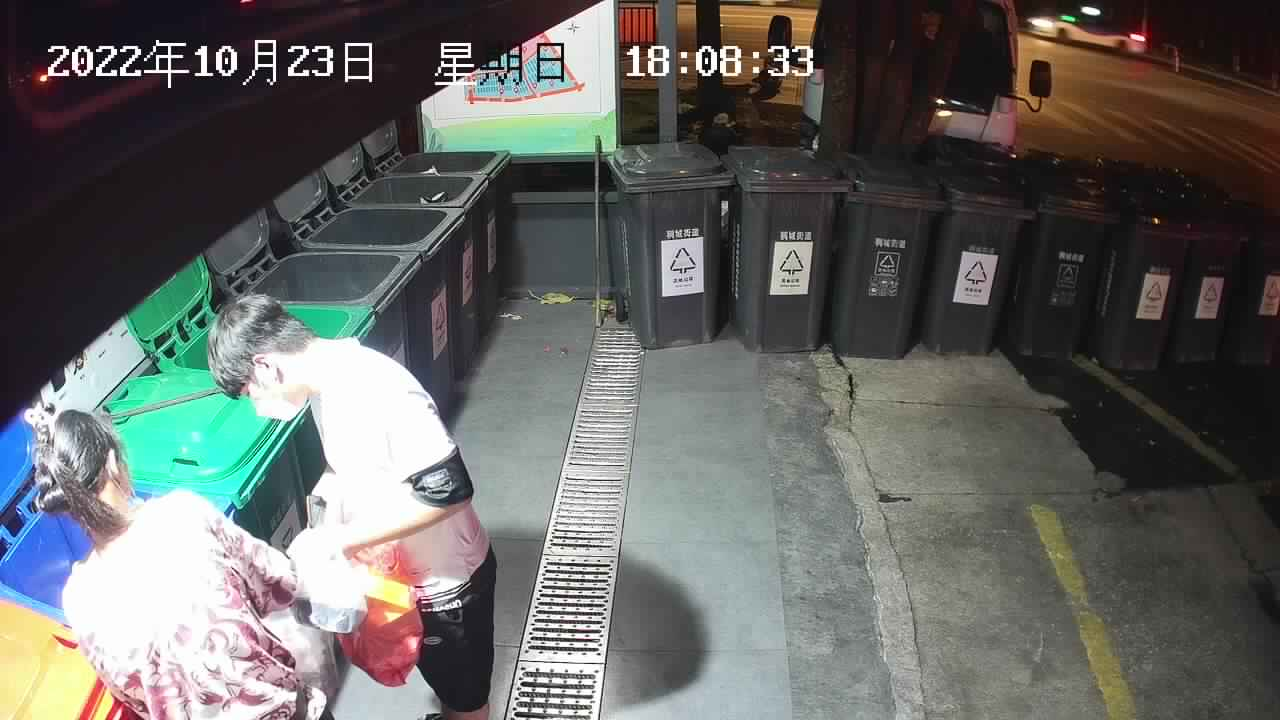garbage-bag: (283, 520, 424, 688)
person: (206, 291, 498, 720), (32, 408, 336, 720)
